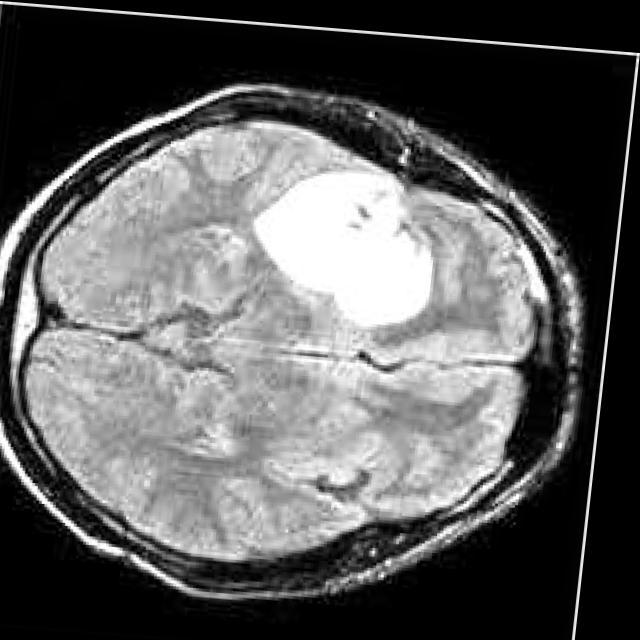Tumor: (253, 161, 433, 317)
